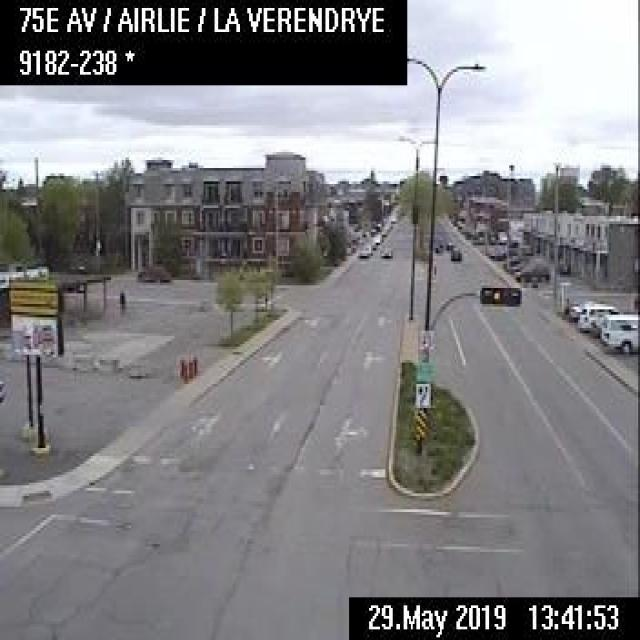construction: (185, 358, 192, 381), (190, 353, 196, 379), (180, 362, 187, 382)
vehicle: (600, 308, 638, 354), (576, 304, 617, 332), (513, 260, 550, 282), (134, 262, 170, 282), (568, 298, 594, 316), (487, 244, 505, 258), (379, 243, 392, 257), (449, 244, 461, 259), (356, 244, 370, 256), (364, 236, 376, 248)
